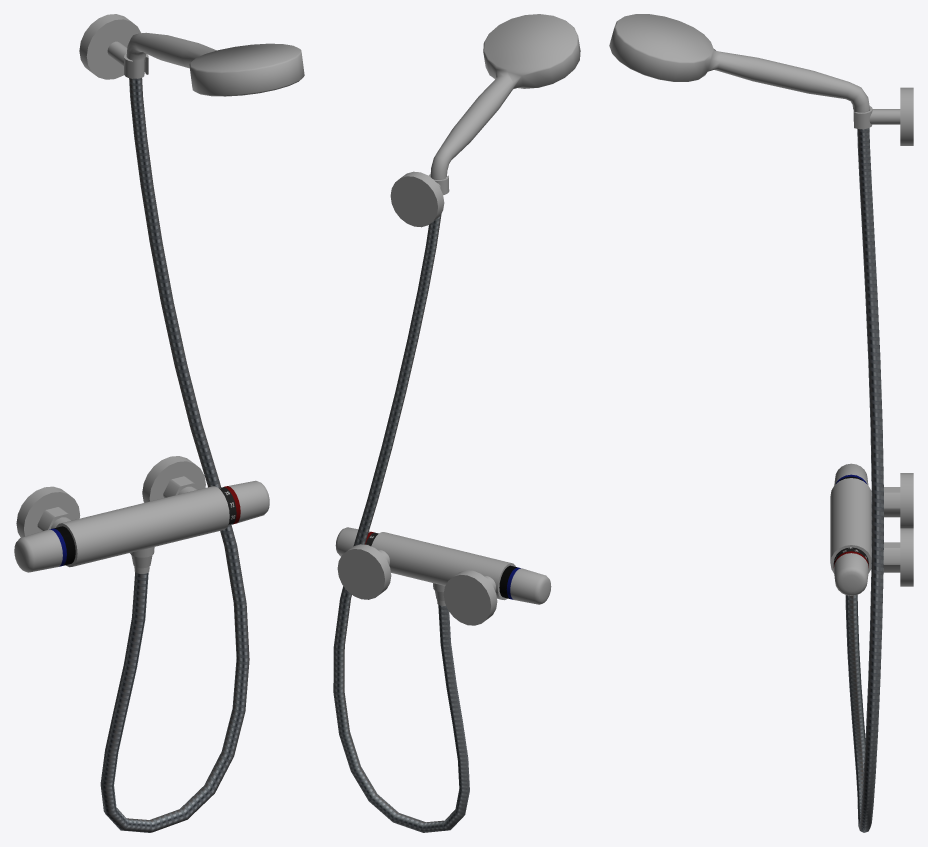
Rendered from mixer-tap-for-shower.obj.
3 renders of one model, left to right at view 1: azimuth 30°, elevation 25°; view 2: azimuth 150°, elevation 25°; view 3: azimuth 270°, elevation 25°, orthographic. The views are drawn at different scales.
Visible parts, largest first — view 1: Hose, Tap, HoseHandle, PipeConnexions, WallSupport; view 2: Hose, HoseHandle, Tap, PipeConnexions, WallSupport; view 3: Hose, HoseHandle, Tap, PipeConnexions, WallSupport.
Part boxes in pixels (x1,y1,x2,y2): Hose: (100, 78, 249, 832); Tap: (14, 480, 269, 573); HoseHandle: (126, 32, 304, 96); PipeConnexions: (16, 456, 205, 537); WallSupport: (79, 14, 148, 79); Hose: (333, 213, 469, 832); HoseHandle: (430, 14, 580, 179); Tap: (335, 527, 551, 605); PipeConnexions: (337, 544, 497, 625); WallSupport: (390, 171, 449, 227); Hose: (845, 128, 883, 832); HoseHandle: (609, 14, 869, 112); Tap: (830, 463, 871, 595); PipeConnexions: (871, 473, 913, 586); WallSupport: (853, 87, 913, 145).
Bounding box in the file's own units: 29.02 × 99.14 × 34.72.
